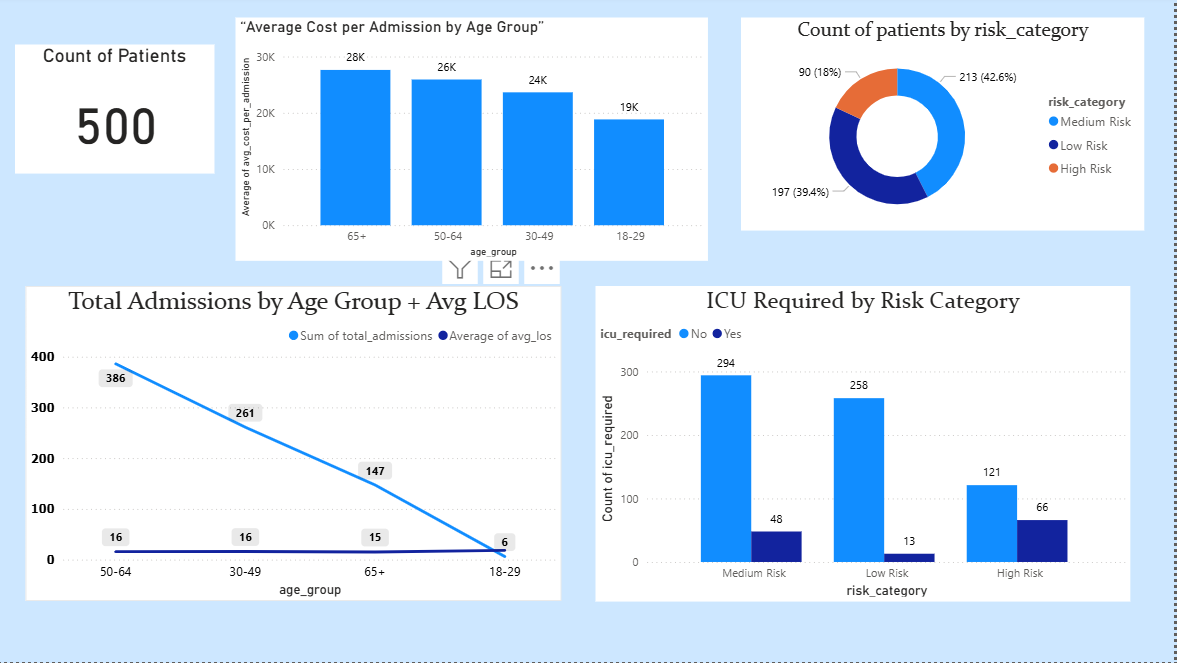

The dashboard page shown, as its layout file describes it:
{"tool":"powerbi","page":{"name":"Patient Risk & Resource Utilization","canvas":[1280,720],"ordinal":2},"visuals":[{"type":"card","title":"Count of Patients","fields":{"Values":["CountNonNull(public patients.admission_count)"]},"box":[29.9,53.8,215.1,139.4],"z":0},{"type":"donutChart","title":"Count of patients by risk_category","fields":{"Category":["public patient_risk_view.risk_category"],"Y":["CountNonNull(public patient_risk_view.patient_id)"]},"box":[812.9,24.3,435.6,229.9],"z":1000},{"type":"lineChart","title":"Total Admissions by Age Group + Avg LOS","fields":{"Category":["public age_segment.age_group"],"Y":["Sum(public age_segment.total_admissions)","Avg(public age_segment.avg_los)"]},"box":[40.5,314.1,578.1,340],"z":2000},{"type":"clusteredColumnChart","title":"ICU Required by Risk Category","fields":{"Category":["public patient_risk_view.risk_category"],"Series":["public admissions.icu_required"],"Y":["CountNonNull(public admissions.icu_required)"]},"box":[655.3,314.7,577.6,340.6],"z":2001},{"type":"clusteredColumnChart","title":"“Average Cost per Admission by Age Group”","fields":{"Category":["public age_segment.age_group"],"Y":["Avg(public age_segment.avg_cost_per_admission)"]},"box":[266.9,23.9,509.9,262.9],"z":2002}]}

Visuals, with their boxes in screenshot pixels (x1, y1, x2, y2), scaled from the page's 1280x720 canvas onto the 1177x663 screenshot:
"Count of Patients" card: bbox=(27, 50, 225, 178)
"Count of patients by risk_category" donutChart: bbox=(747, 22, 1148, 234)
"Total Admissions by Age Group + Avg LOS" lineChart: bbox=(37, 289, 569, 602)
"ICU Required by Risk Category" clusteredColumnChart: bbox=(603, 290, 1134, 603)
"“Average Cost per Admission by Age Group”" clusteredColumnChart: bbox=(245, 22, 714, 264)
